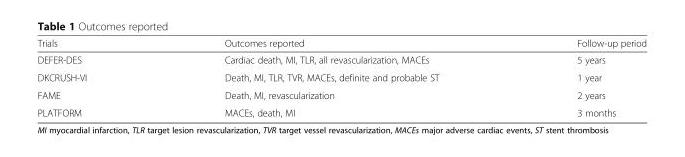table: (36, 37, 646, 118)
table column: (155, 37, 507, 118), (507, 37, 646, 118), (36, 37, 155, 118)
table column header: (36, 37, 646, 51)
table row: (36, 85, 646, 103), (36, 51, 646, 68), (36, 68, 646, 85), (36, 103, 646, 118), (36, 37, 646, 51)
